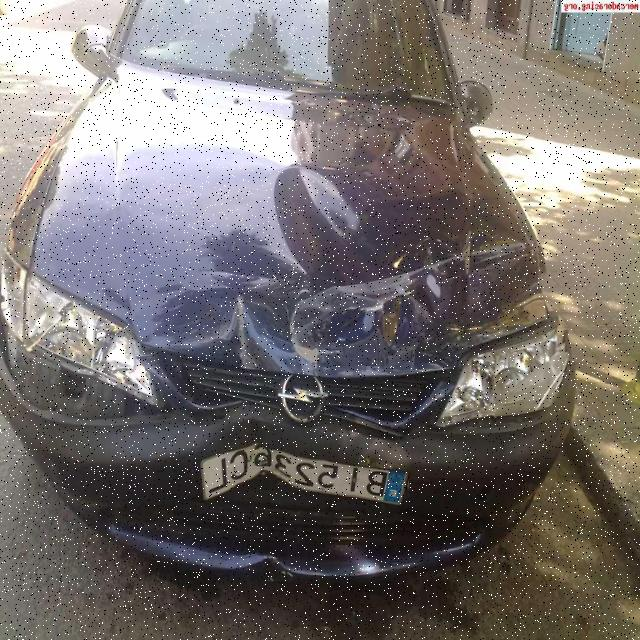damage: (12, 239, 574, 511)
